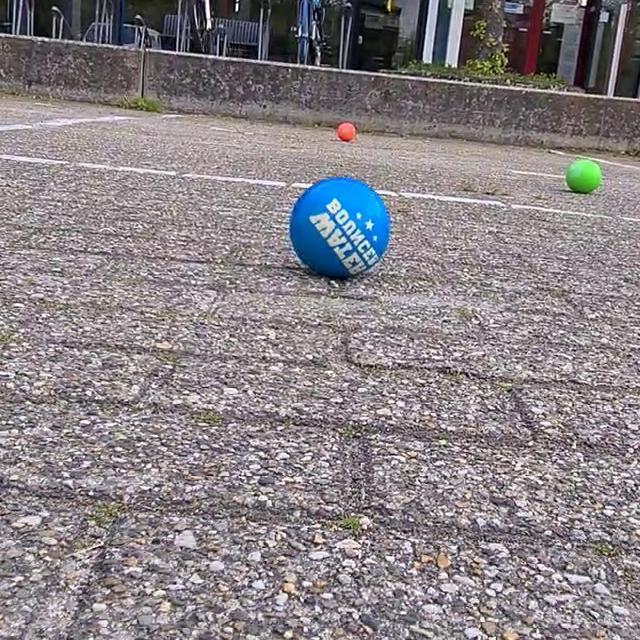ball: (562, 153, 604, 201), (334, 120, 359, 145)
